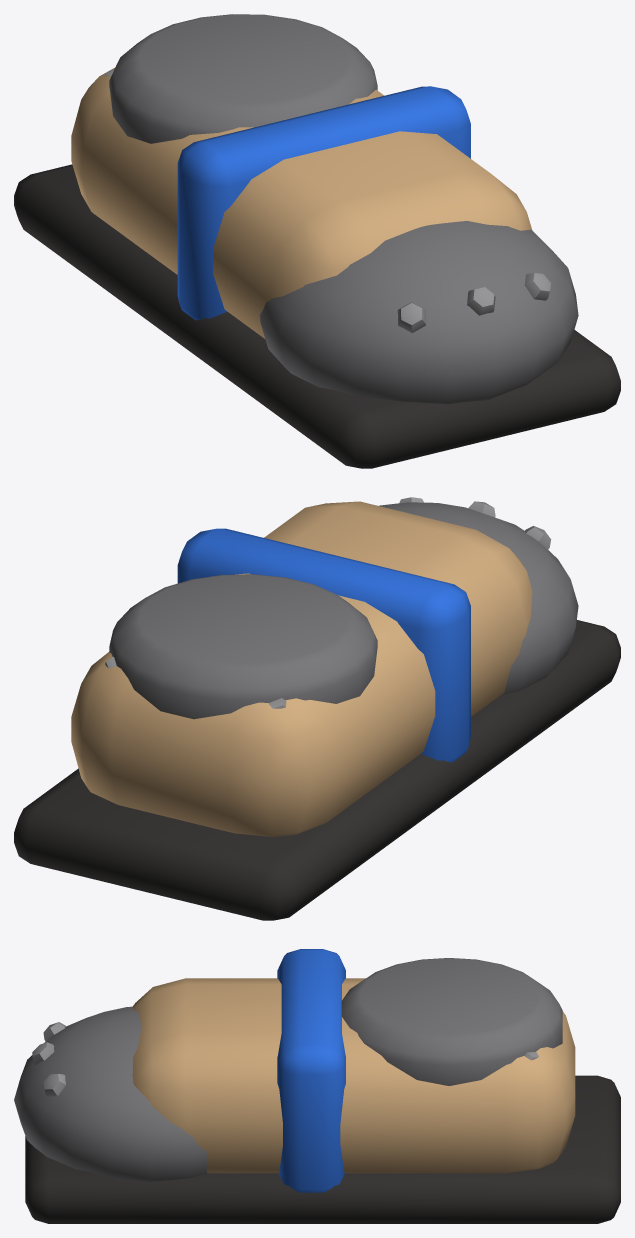
Rendered from Kit_Foot_Boot.glb.
3 views of the same model, one above another, from view 1: azimuth 30°, elevation 25°; view 2: azimuth 150°, elevation 25°; view 3: azimuth 270°, elevation 25° (orthographic). The views are drawn at different scales.
Visible parts, largest first — view 1: Kit_Foot_Boot; view 2: Kit_Foot_Boot; view 3: Kit_Foot_Boot.
Boxes of the visible parts, x1,y1,x2,y2 form: Kit_Foot_Boot: (14,14,620,468); Kit_Foot_Boot: (14,497,620,920); Kit_Foot_Boot: (14,949,620,1223).
Size of the model in its own units: 0.12 by 0.086 by 0.265.
